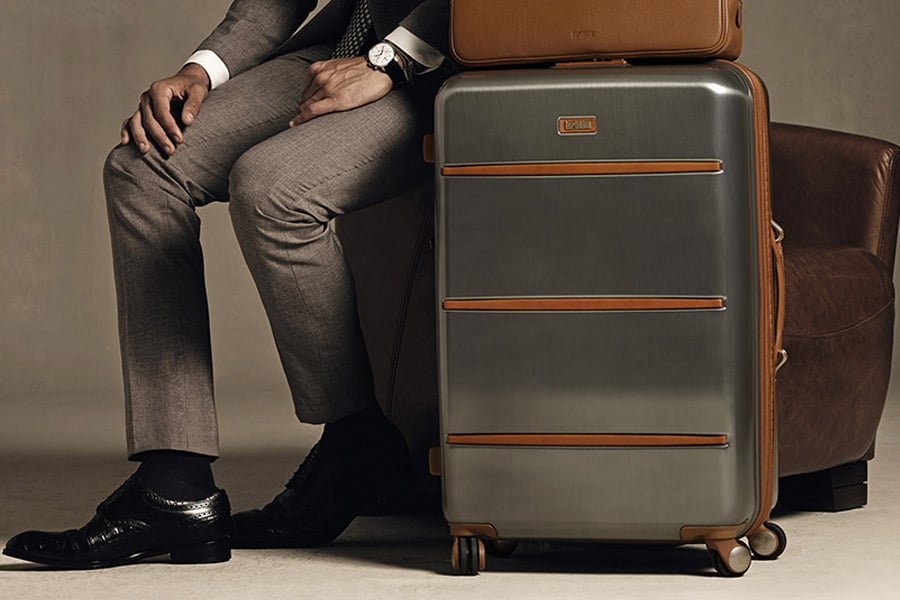luggage: (432, 65, 790, 588)
